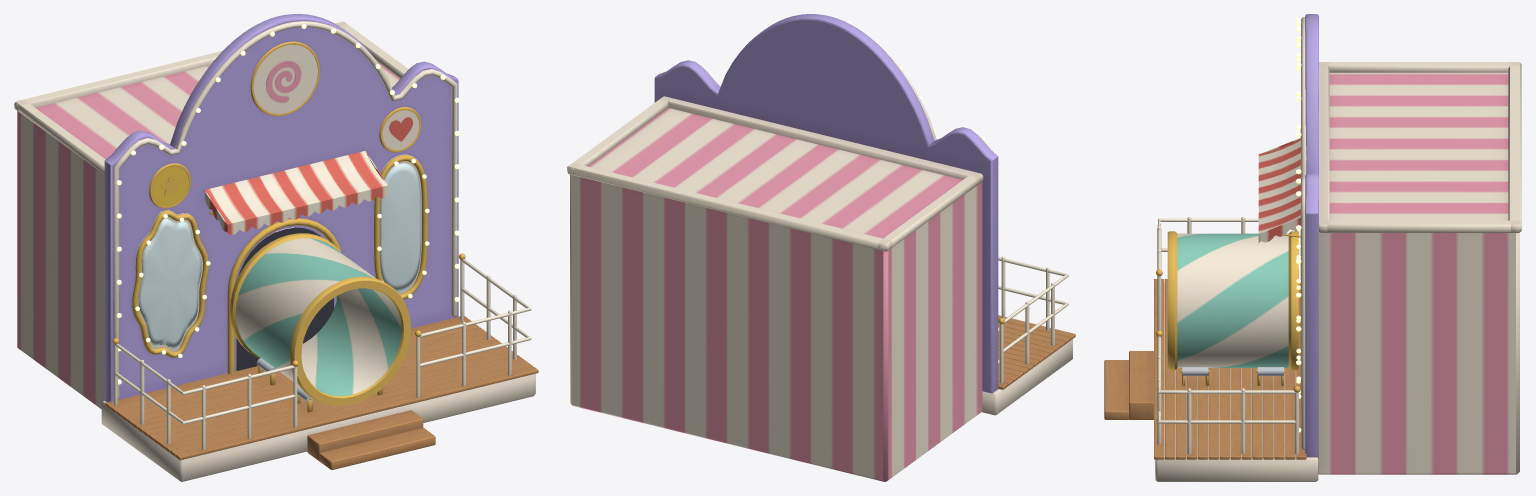
File: fun-house.glb
The picture shows the model from 3 angles, left to right: view 1: azimuth 30°, elevation 25°; view 2: azimuth 150°, elevation 25°; view 3: azimuth 270°, elevation 25°; orthographic projection. The views are drawn at different scales.
Parts seen in each view (by area): view 1: fun-house_body, fun-house_barrel, fun-house_mirror, fun-house_bulbs; view 2: fun-house_body; view 3: fun-house_body, fun-house_barrel, fun-house_bulbs.
Boxes of the visible parts, bbox=[...] form: fun-house_body: bbox=[14, 14, 538, 481]; fun-house_barrel: bbox=[230, 233, 410, 405]; fun-house_mirror: bbox=[138, 163, 421, 349]; fun-house_bulbs: bbox=[116, 23, 459, 384]; fun-house_body: bbox=[567, 14, 1075, 481]; fun-house_body: bbox=[1104, 14, 1521, 481]; fun-house_barrel: bbox=[1167, 231, 1298, 370]; fun-house_bulbs: bbox=[1296, 18, 1301, 432].
Size of the model in its own units: 5.14 by 5 by 5.09.
Materials: 4 (2 with a texture image).
